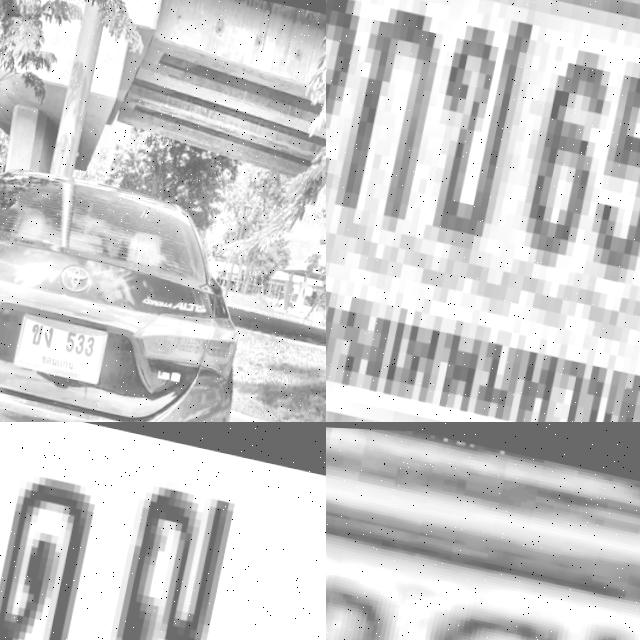license-plate: (326, 0, 640, 422), (0, 422, 326, 640), (326, 446, 640, 640), (11, 301, 116, 387)
